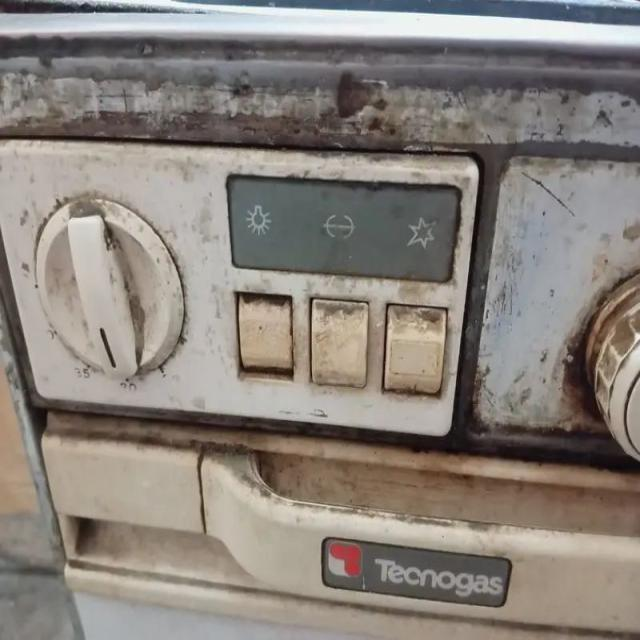electronic: (1, 2, 638, 635)
